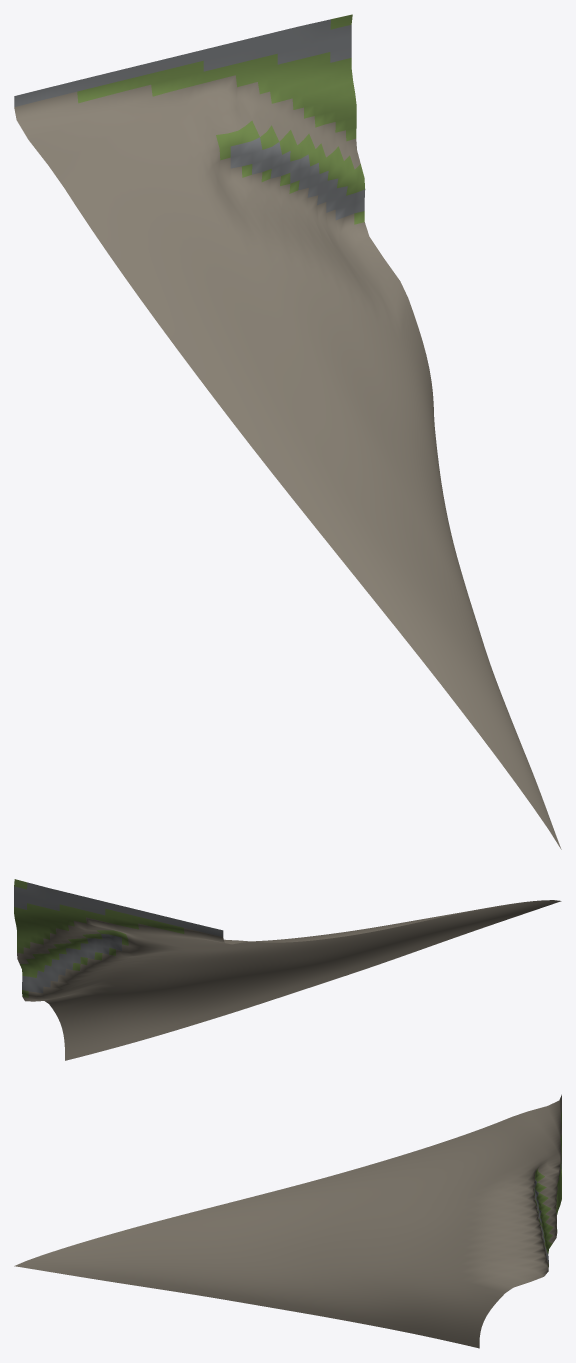
Rendered from island_terrain_12_08.obj.
3 views of the same model, one above another, from view 1: azimuth 30°, elevation 25°; view 2: azimuth 150°, elevation 25°; view 3: azimuth 270°, elevation 25° (orthographic). The views are drawn at different scales.
Visible parts, largest first — view 1: island_terrain_12_08; view 2: island_terrain_12_08; view 3: island_terrain_12_08.
Part boxes in pixels (bbox=[...]): island_terrain_12_08: bbox=[14, 14, 561, 849]; island_terrain_12_08: bbox=[14, 879, 561, 1060]; island_terrain_12_08: bbox=[14, 1094, 561, 1348].
Size of the model in its own units: 256 by 256 by 719.
